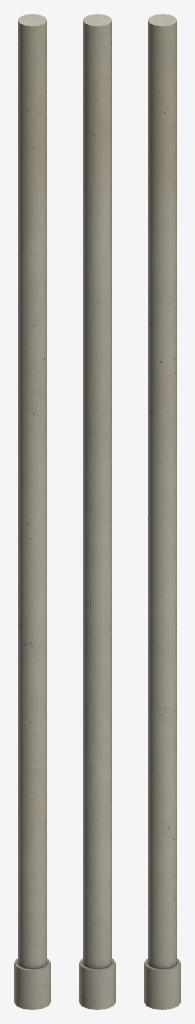
Rendered from pipe_straight_1m_web.glb.
3 views of the same model, side by side, from view 1: azimuth 30°, elevation 25°; view 2: azimuth 150°, elevation 25°; view 3: azimuth 330°, elevation 25° (orthographic).
Visible parts, largest first — view 1: PipeStraight1m_Body; view 2: PipeStraight1m_Body; view 3: PipeStraight1m_Body.
Boxes of the visible parts, bbox=[...] form: PipeStraight1m_Body: bbox=[14, 14, 50, 1009]; PipeStraight1m_Body: bbox=[79, 14, 115, 1009]; PipeStraight1m_Body: bbox=[144, 14, 180, 1009].
Bounding box in the file's own units: 0.034 × 1 × 0.034.
1 material, 1 textured.
